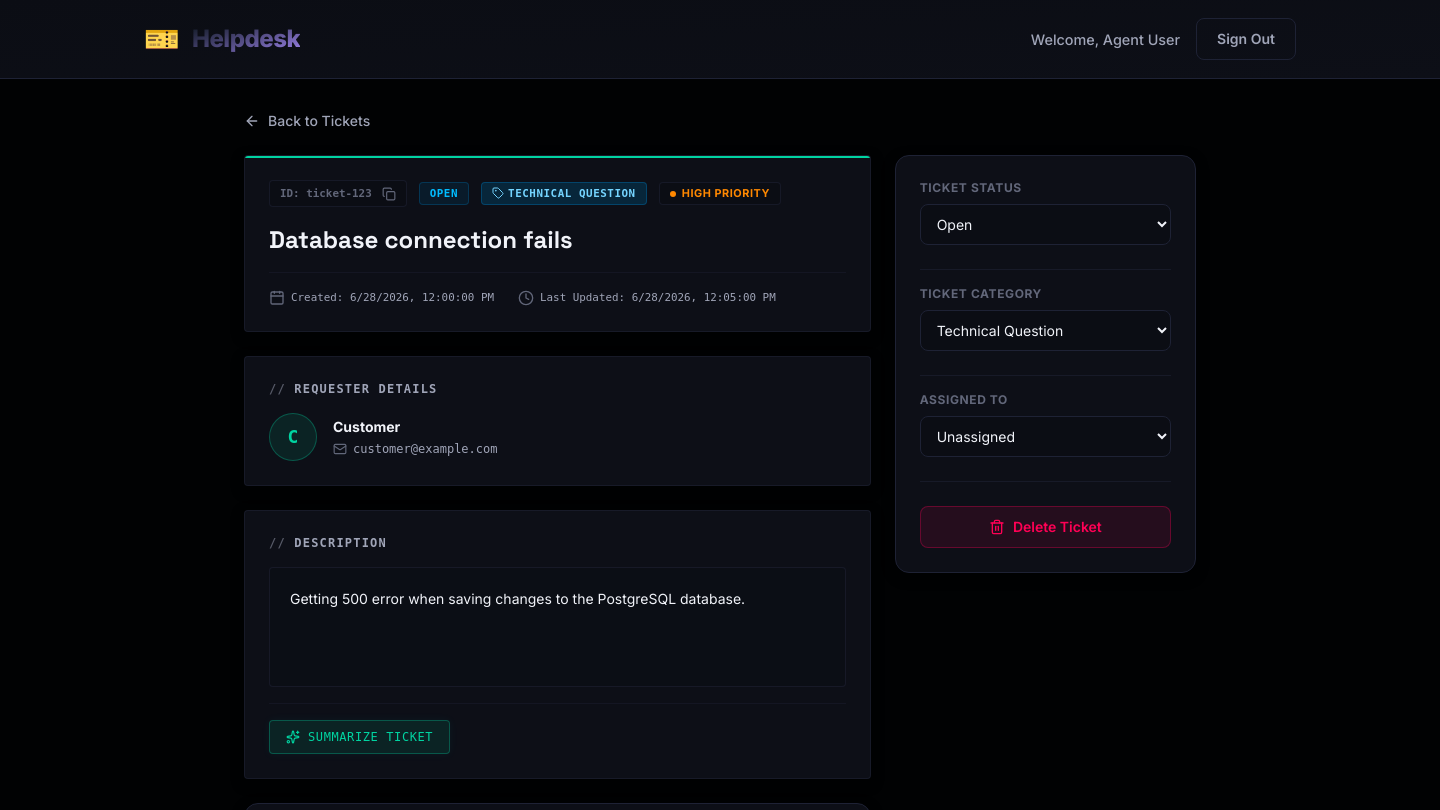
Scenario: TicketDetails - Assigned To Feature › shows success toast after successful assignment update
The image size is (1440, 810).
Expected: the heading "Database connection fails" is shown, [269,224,573,256]
Select "Agent Alice (agent)" in the dropdown labelled "Assigned To" at point(1045, 437), box [920,416,1171,457]
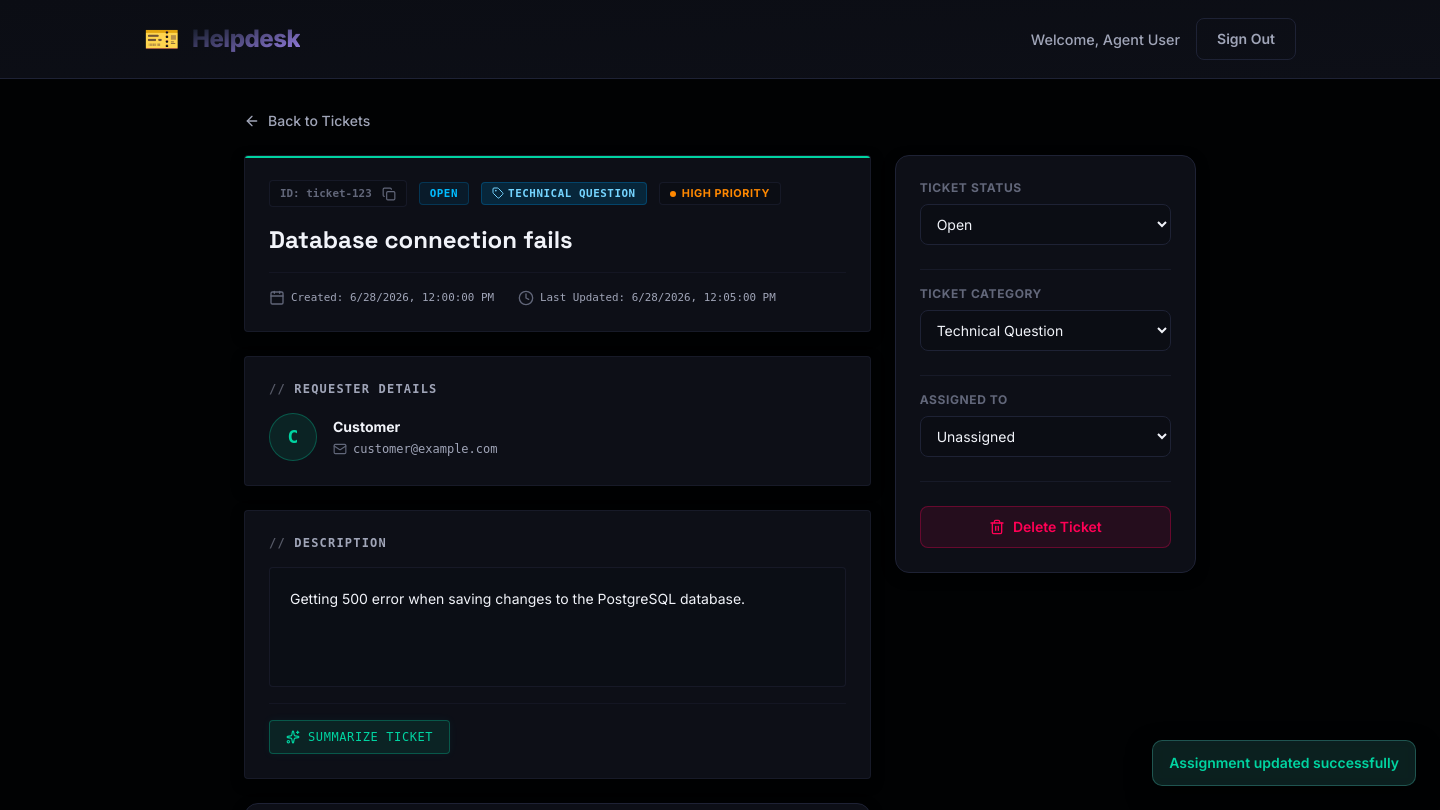
Now the text "Assignment updated successfully" is shown, box [1169,753,1399,773]
